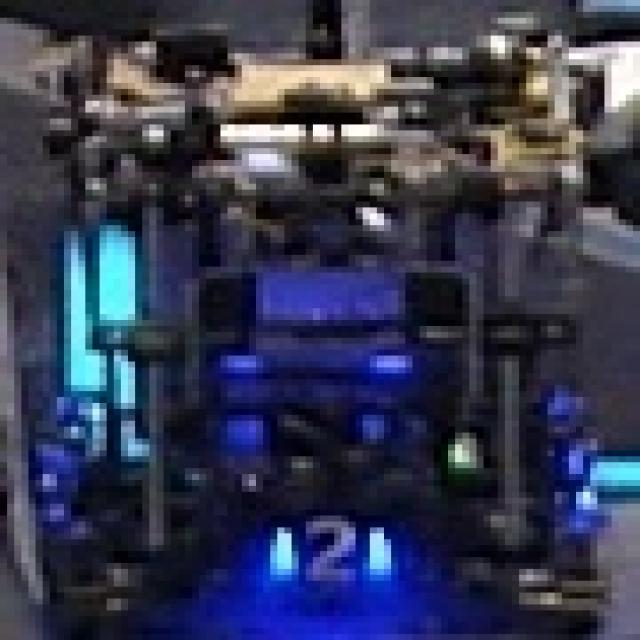B2: (252, 512, 394, 596)
